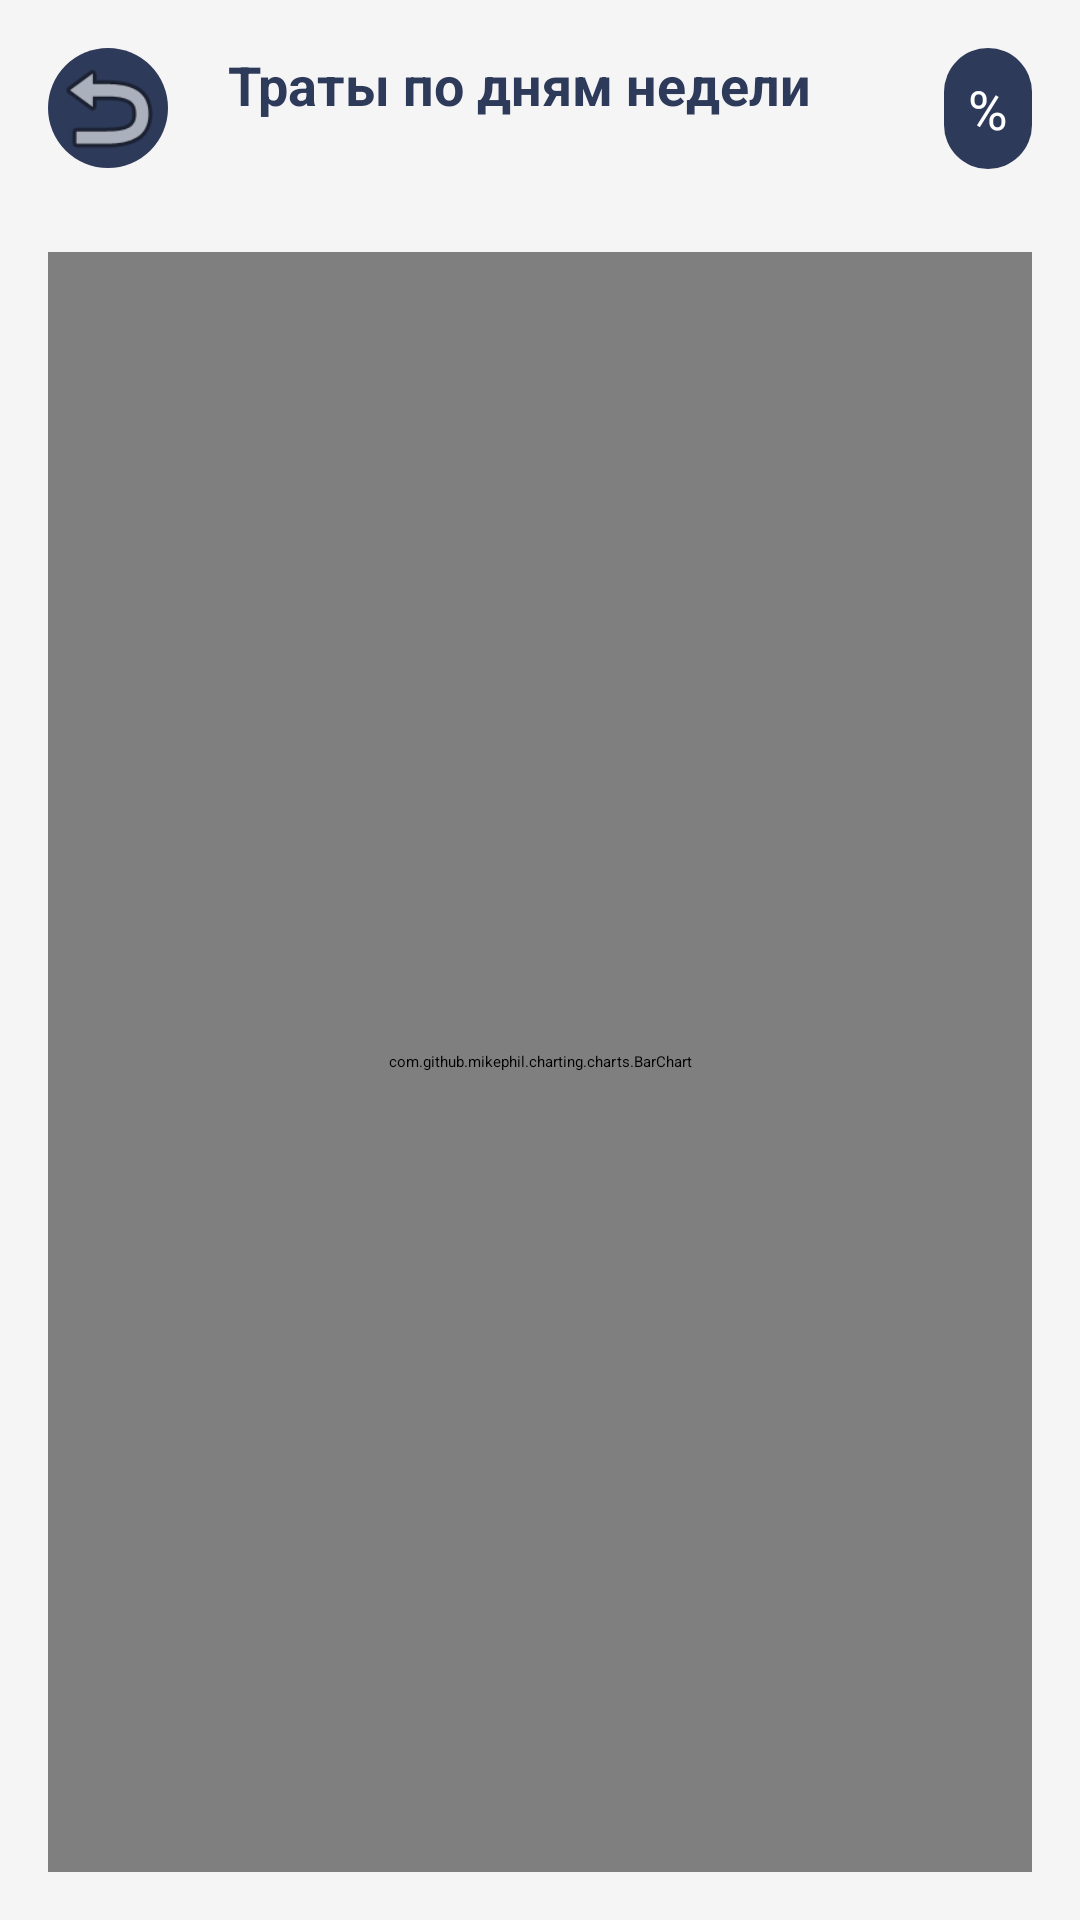

Where icons sit on this 1080 × 1920 app screen, as (x1, y1, x2, y2):
revert: (48, 48, 168, 168)
